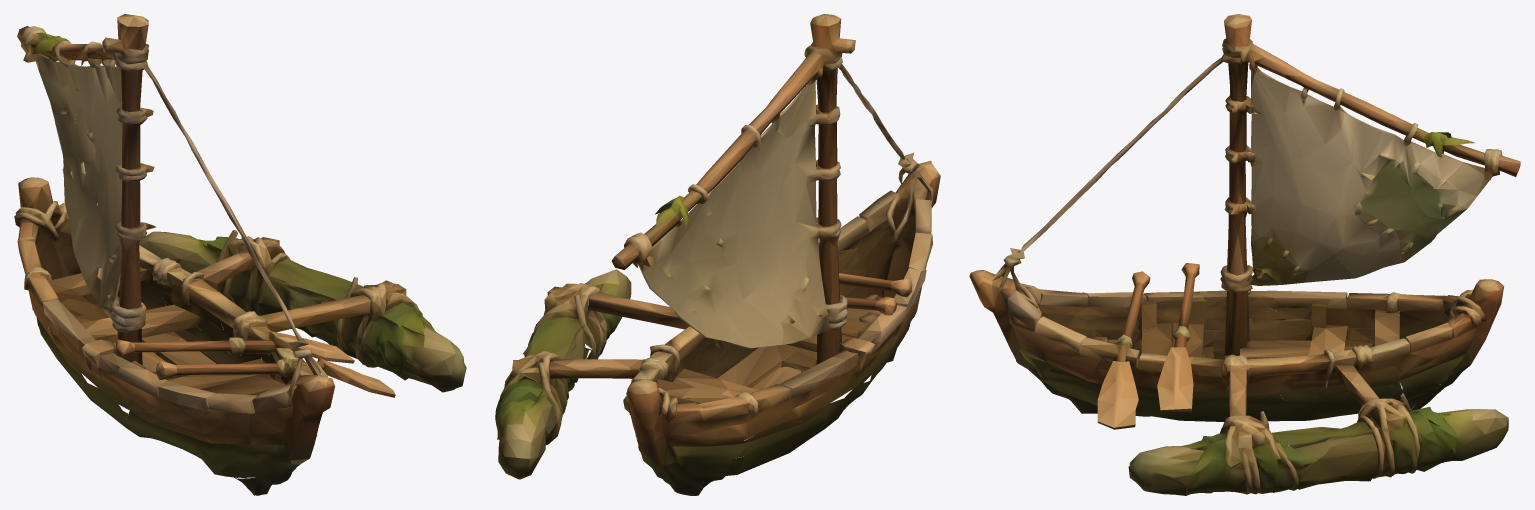
The model's file is building-boat.glb.
3 views of the same model, side by side, from view 1: azimuth 30°, elevation 25°; view 2: azimuth 150°, elevation 25°; view 3: azimuth 270°, elevation 25° (orthographic). The views are drawn at different scales.
Parts seen in each view (by area): view 1: 0_boat; view 2: 0_boat; view 3: 0_boat.
Part boxes in pixels (x1,y1,x2,y2): 0_boat: (14, 14, 466, 495); 0_boat: (495, 14, 940, 495); 0_boat: (969, 14, 1520, 495).
Size of the model in its own units: 3.56 by 4.36 by 5.76.
